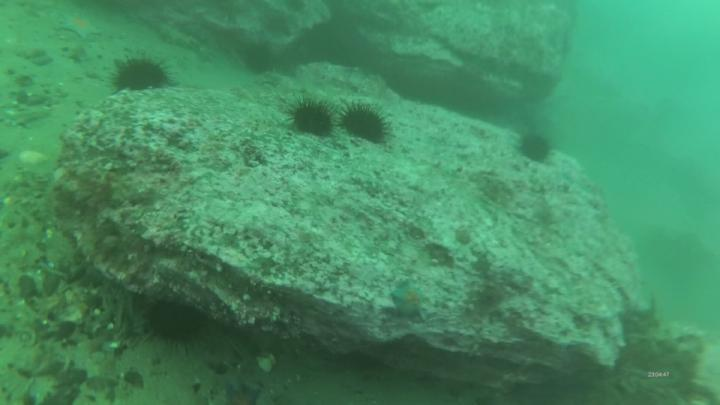echinus: (148, 304, 203, 340), (116, 58, 164, 91), (344, 109, 384, 141), (294, 104, 334, 135), (519, 134, 550, 161), (245, 41, 270, 74)
starfish: (394, 281, 428, 318), (60, 13, 104, 40)
